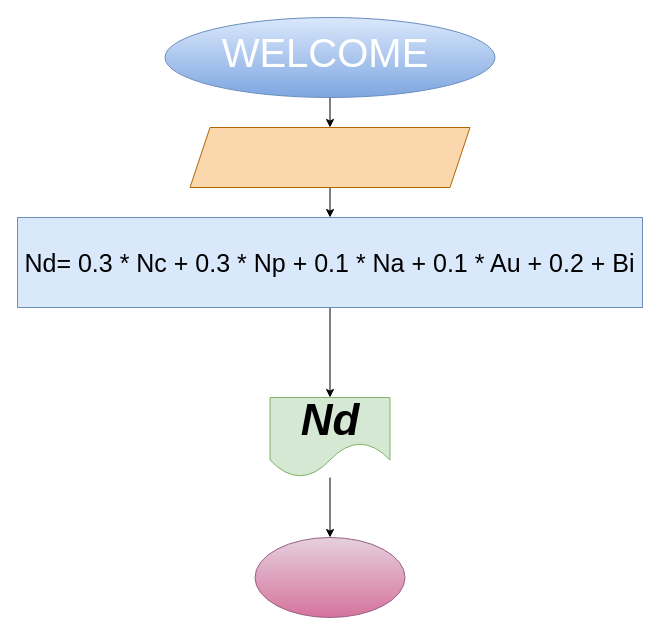
Image size: 660x635. Some labels were removed from this diagram. Each missing label, with the centre of its shape:
"FIN" goes at (329,577).
"Nc, Np, Na, Au, Bi" goes at (329,157).
